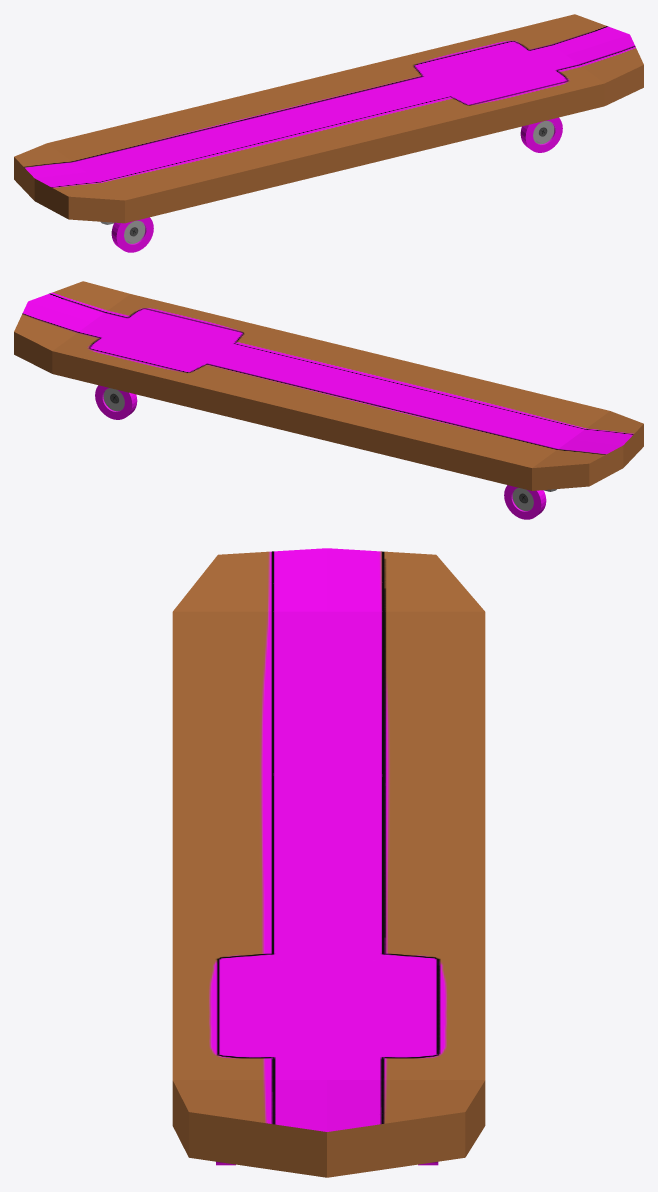
File: Skate_Cherry.fbx
3 renders of one model, top to bottom at view 1: azimuth 30°, elevation 25°; view 2: azimuth 150°, elevation 25°; view 3: azimuth 270°, elevation 25°, orthographic. The views are drawn at different scales.
Visible parts, largest first — view 1: skate, Rueda 1, Rueda 3; view 2: skate, Rueda 2, Rueda 4; view 3: skate.
Part boxes in pixels (bbox=[...]): skate: bbox=[14, 14, 643, 223]; Rueda 1: bbox=[111, 217, 153, 252]; Rueda 3: bbox=[520, 117, 562, 152]; skate: bbox=[14, 281, 643, 490]; Rueda 2: bbox=[504, 485, 546, 519]; Rueda 4: bbox=[95, 385, 137, 419]; skate: bbox=[172, 548, 485, 1177].
Size of the model in its own units: 248 by 28.46 by 56.46.
